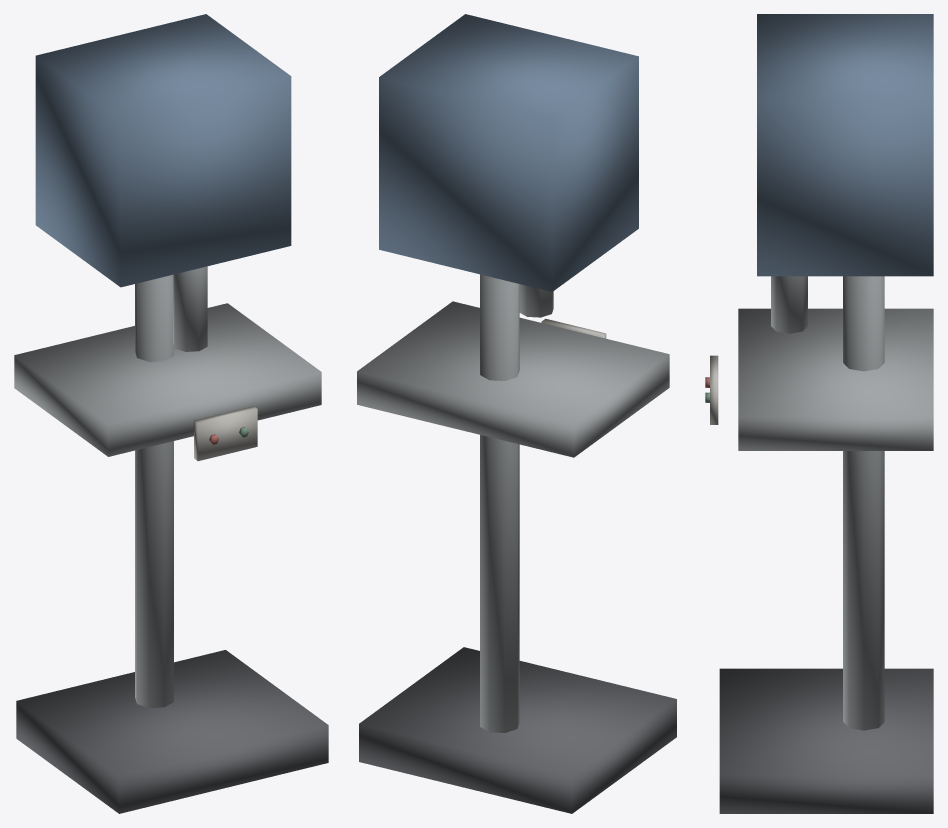
File: drill_press__tall.glb
3 renders of one model, left to right at view 1: azimuth 30°, elevation 25°; view 2: azimuth 150°, elevation 25°; view 3: azimuth 270°, elevation 25°, orthographic. The views are drawn at different scales.
Parts seen in each view (by area): view 1: world; view 2: world; view 3: world.
Boxes of the visible parts, <box> form: world: <box>14,14,328,813</box>; world: <box>357,14,676,813</box>; world: <box>705,14,933,813</box>.
Size of the model in its own units: 0.55 by 1.67 by 0.491.
